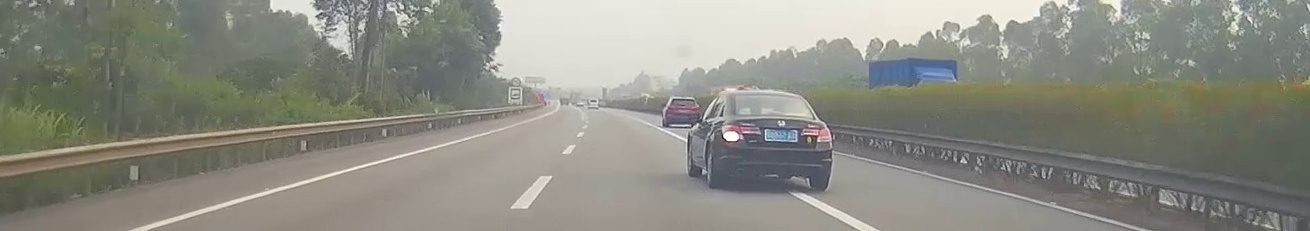L_light: (721, 125, 761, 142), (666, 106, 672, 112)
R_light: (801, 128, 832, 142), (693, 107, 700, 113)
T_light: (761, 94, 779, 97), (680, 98, 686, 101)
day-left: (710, 90, 834, 192)
day-no: (663, 97, 703, 128)
